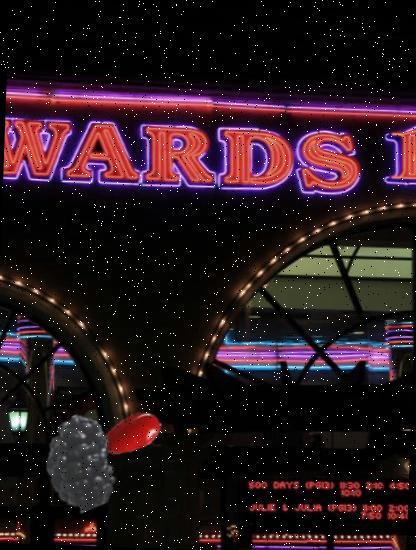Mulberry: (33, 415, 130, 512)
Tomato: (102, 402, 164, 463)
